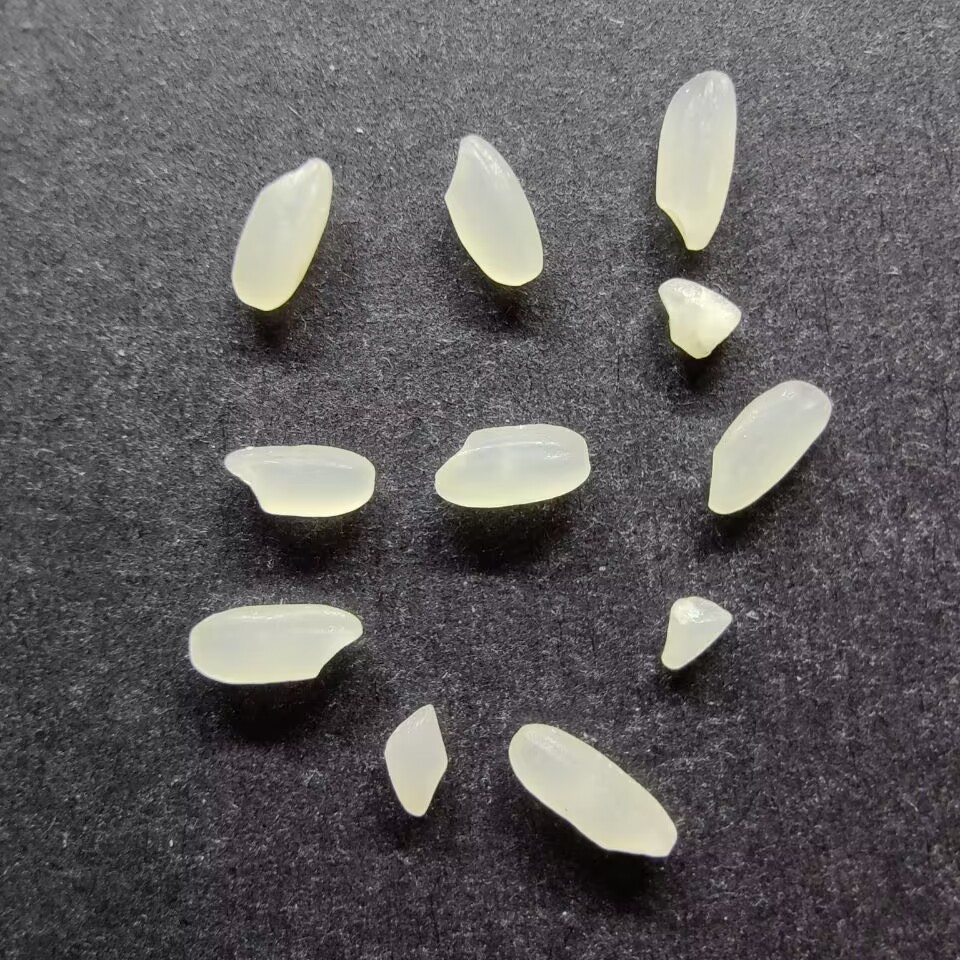broken: (379, 702, 451, 819), (655, 275, 743, 361), (658, 595, 736, 672)
rice: (505, 721, 679, 860), (705, 377, 834, 516), (439, 131, 549, 289), (227, 153, 333, 311), (651, 67, 739, 252), (185, 601, 365, 686), (431, 422, 592, 510), (220, 441, 377, 520)
